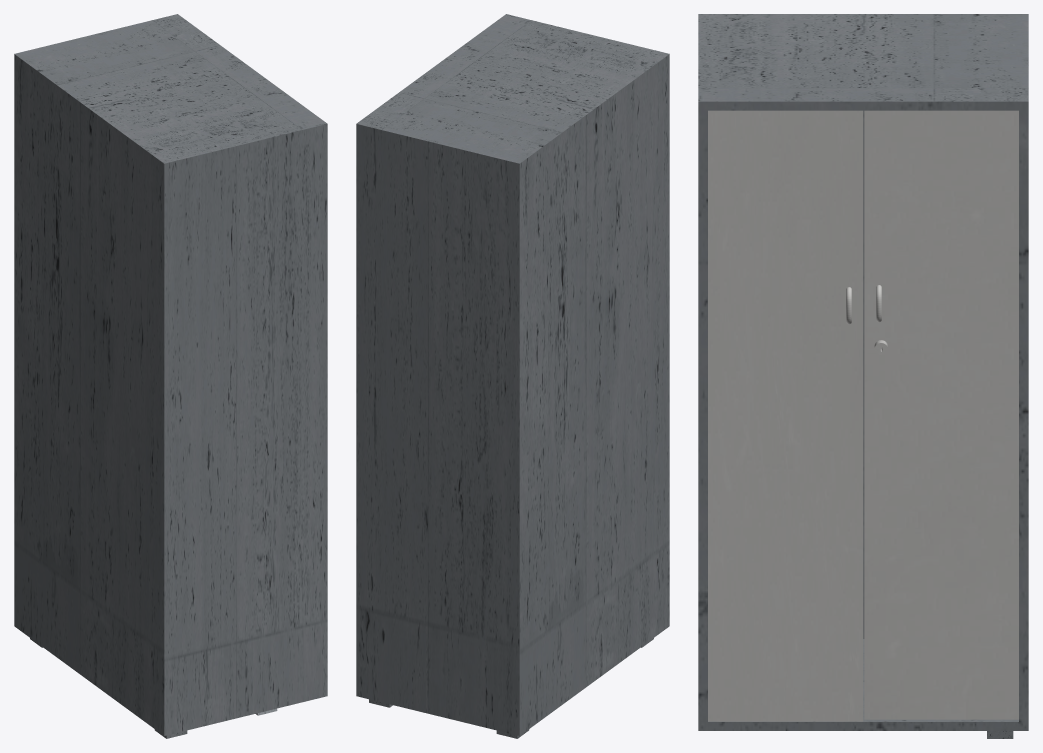
Rendered from ArmarioComum.fbx.
3 renders of one model, left to right at view 1: azimuth 30°, elevation 25°; view 2: azimuth 150°, elevation 25°; view 3: azimuth 270°, elevation 25°, orthographic. The views are drawn at different scales.
Visible parts, largest first — view 1: Cube; view 2: Cube; view 3: Plane, Cylinder, Cube.
Part boxes in pixels (x1,y1,x2,y2): Cube: (14,14,327,738); Cube: (356,14,669,738); Plane: (708,110,863,721); Cylinder: (864,110,1018,719); Cube: (698,14,1028,738).
Bounding box in the file's own units: 438 × 1415 × 661.
